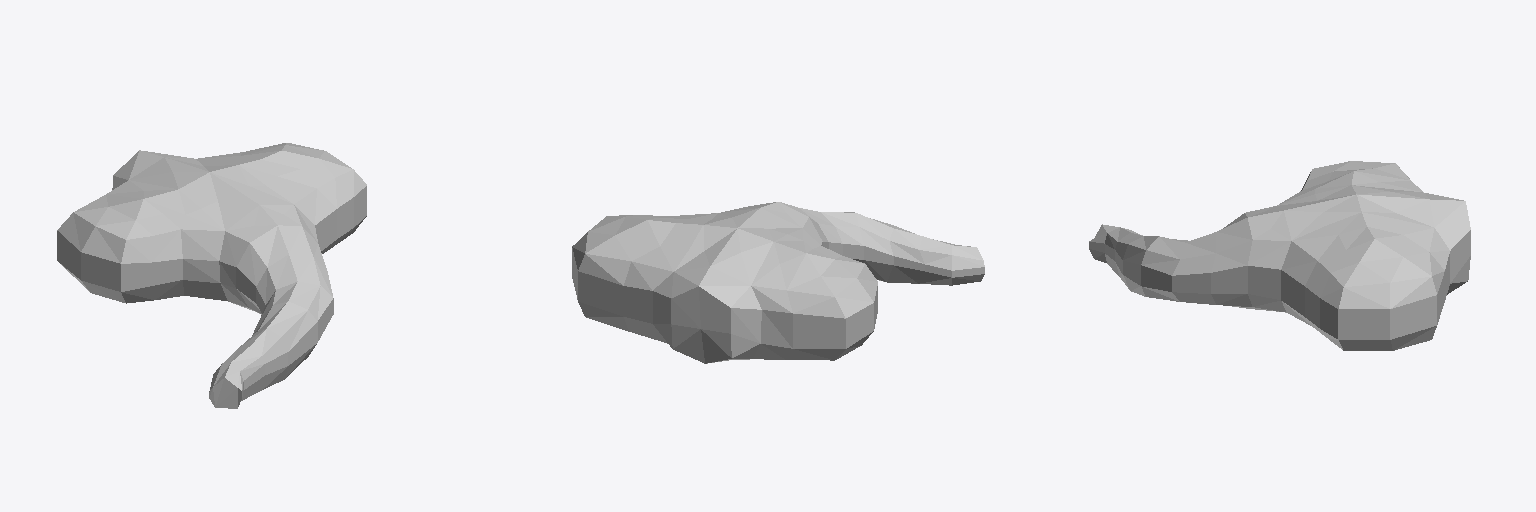
Rendered from keep1-campexit.obj.
The picture shows the model from 3 angles: view 1: azimuth 30°, elevation 25°; view 2: azimuth 150°, elevation 25°; view 3: azimuth 270°, elevation 25°; orthographic projection.
Parts seen in each view (by area): view 1: qww001; view 2: qww001; view 3: qww001.
Part boxes in pixels (left/top/right/bottom): qww001: left=57, top=143, right=366, bottom=408; qww001: left=572, top=202, right=984, bottom=363; qww001: left=1089, top=161, right=1470, bottom=350.
Size of the model in its own units: 500 by 196 by 588.